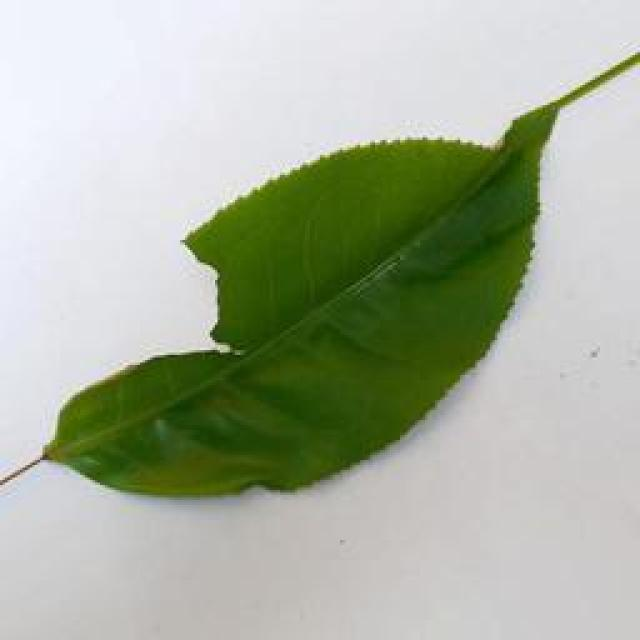Healthy: (31, 101, 594, 523)
